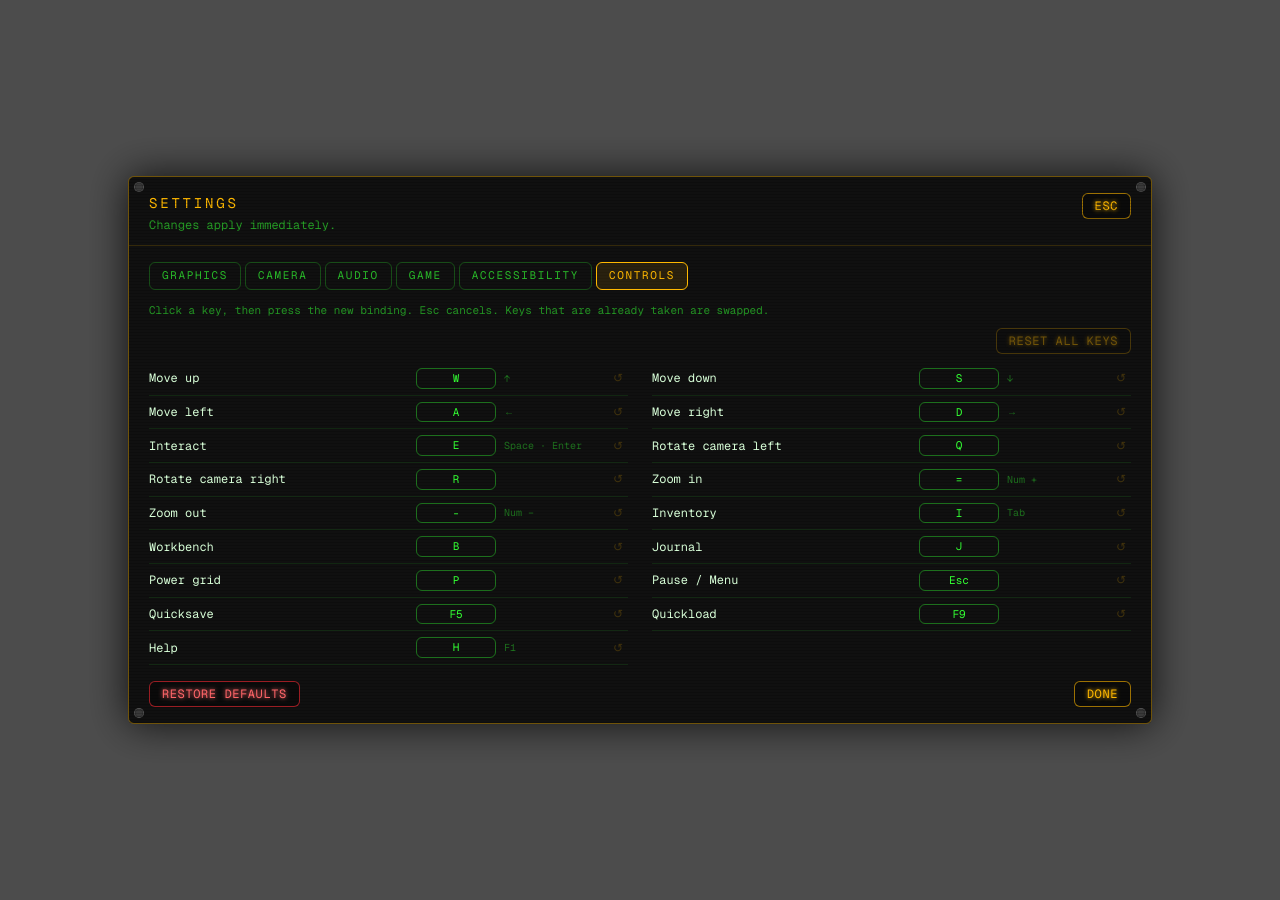
Test: SettingsPanel extras › shows binding conflicts and resets all keys
The image size is (1280, 900).
Click the button named "Rebind Journal" at point(959, 547), box [919, 536, 999, 557]
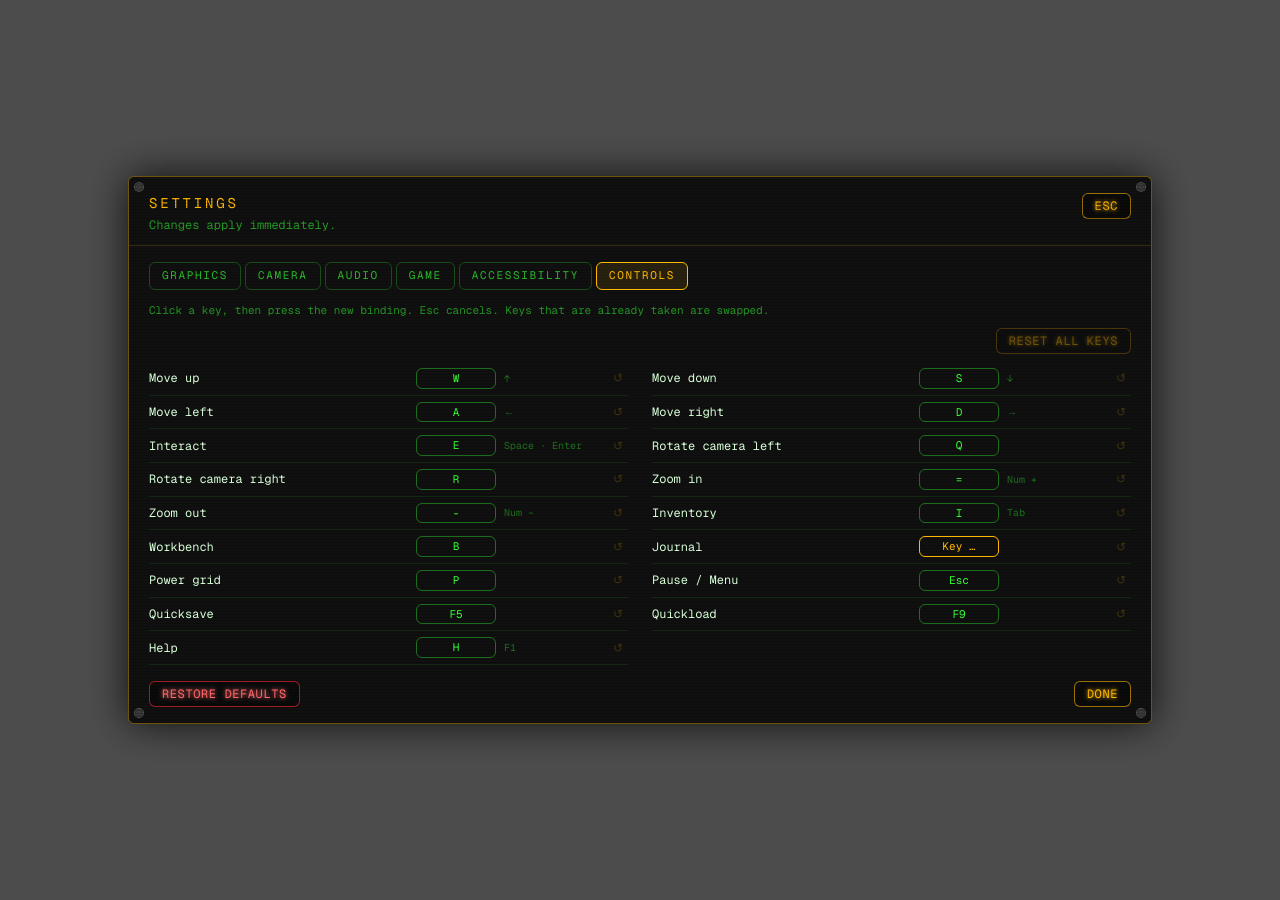
Press Tab
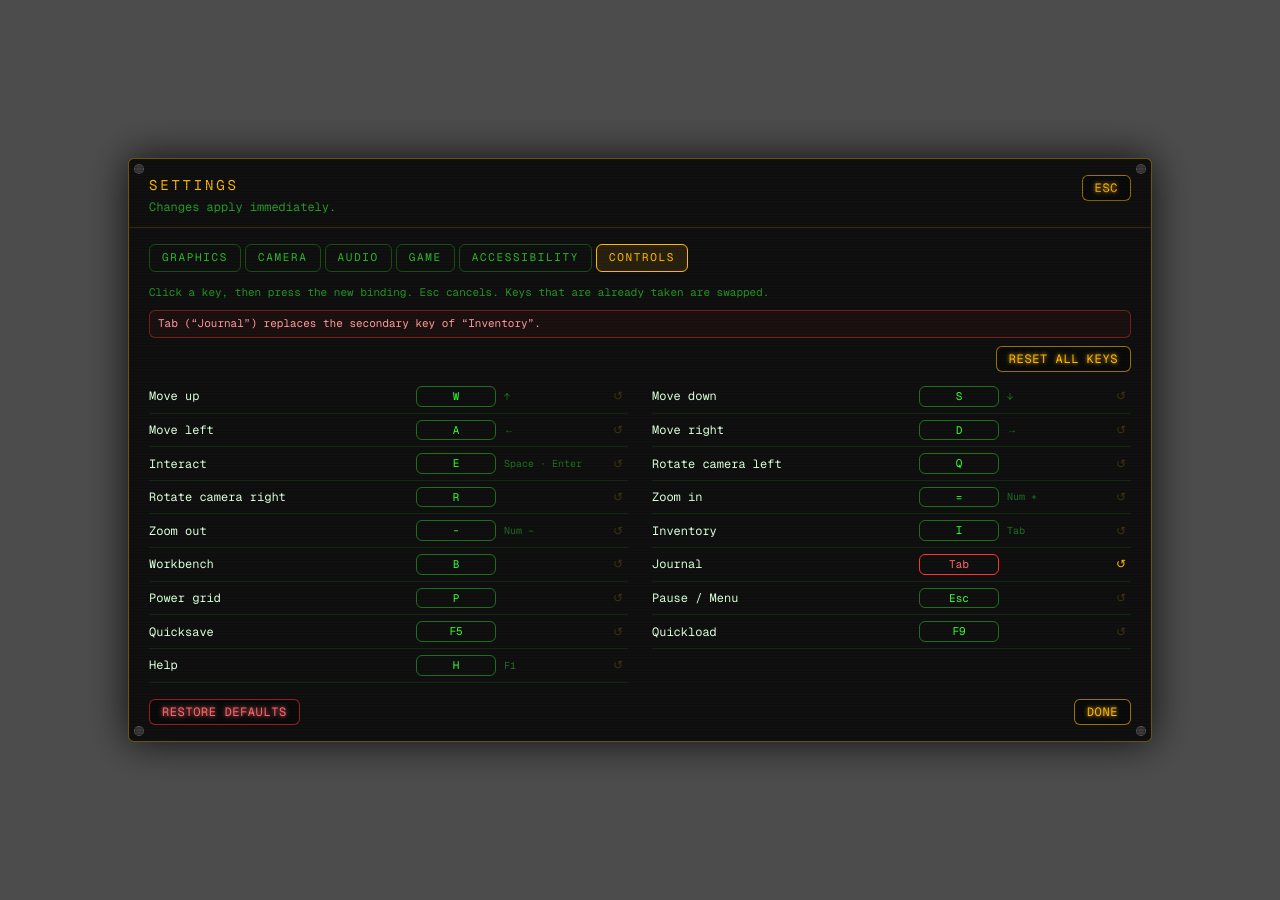
Expected: the text "Tab" is shown, [1007, 524, 1025, 537]
Expected: the list named "Conflicts" shows "Inventory", [158, 316, 541, 330]
Click the button "Reset all keys" at point(1063, 359), box [996, 346, 1131, 372]
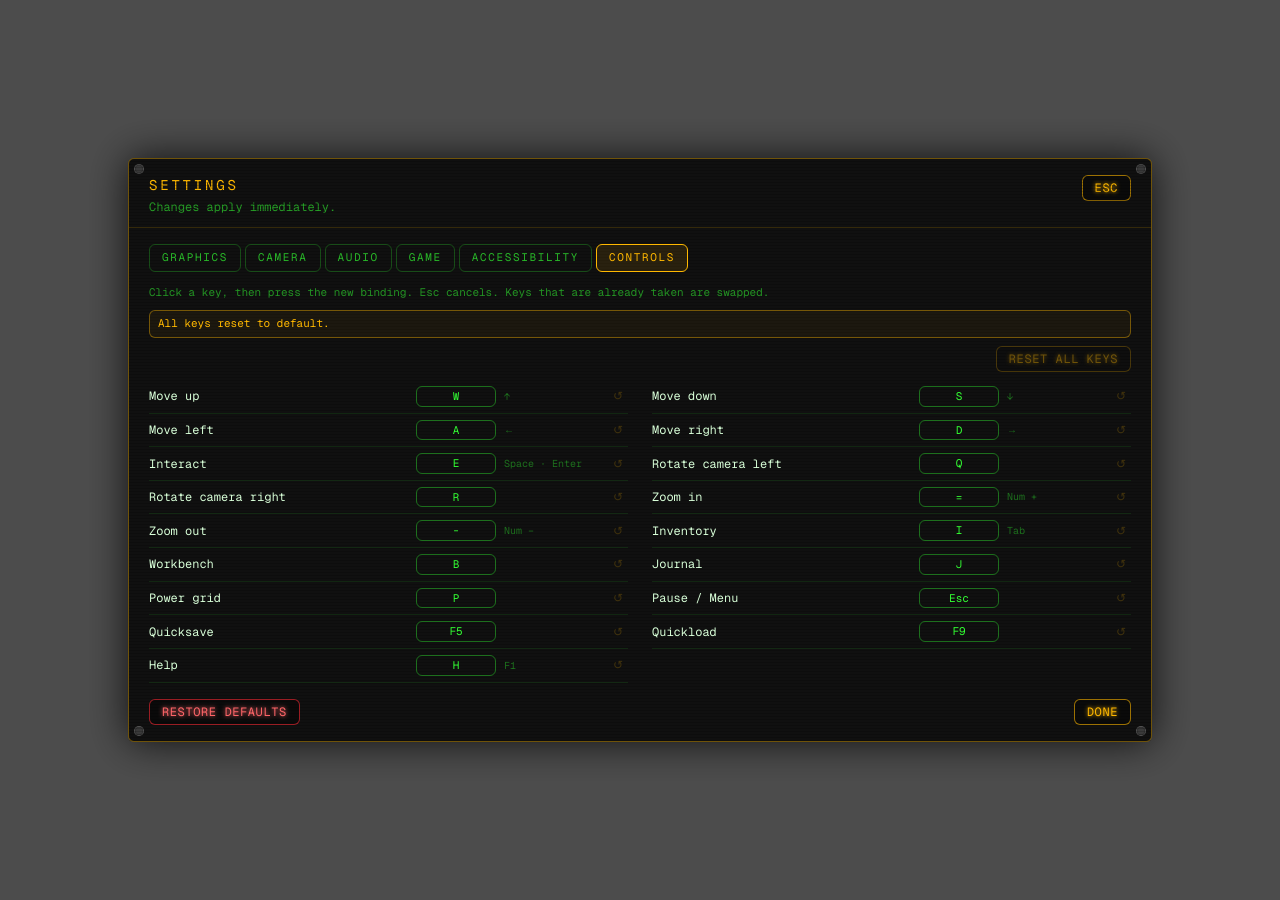
Expected: the list "Conflicts" is gone
